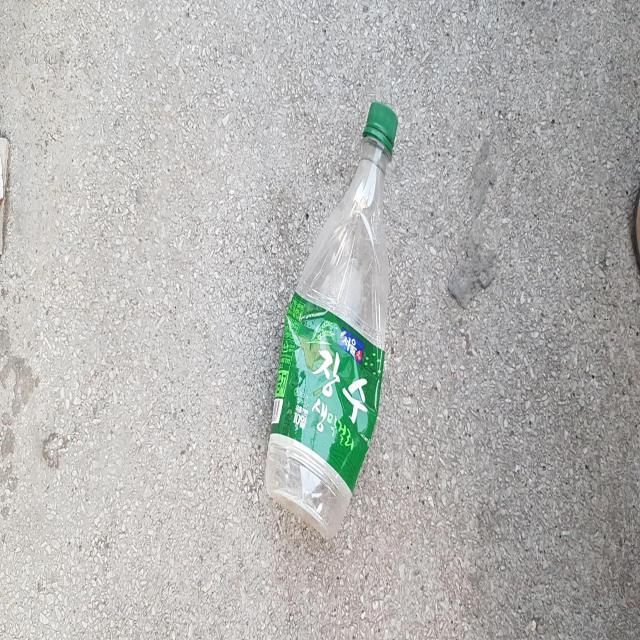plastic: (265, 100, 398, 538)
